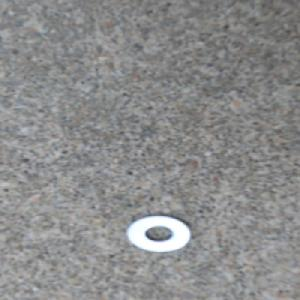Washer: (123, 214, 192, 253)
